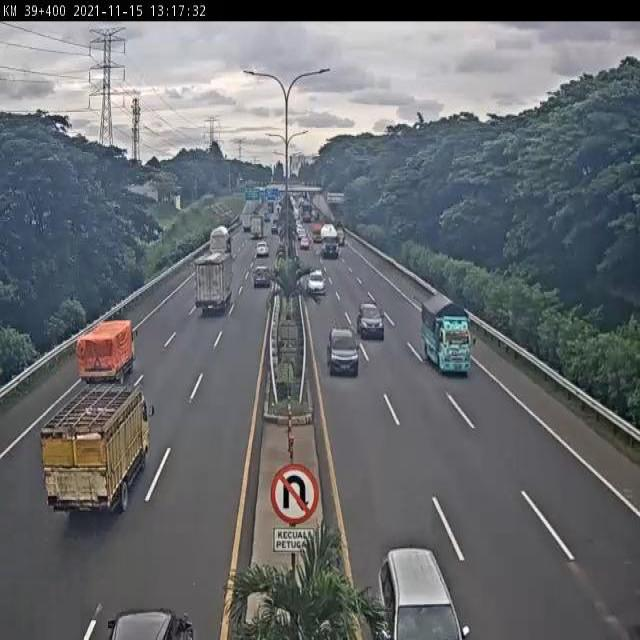car: (327, 328, 360, 377), (359, 301, 383, 339), (252, 264, 272, 288), (307, 269, 324, 295)
truck-l-: (319, 223, 340, 260)
truck-m-: (42, 384, 151, 513), (423, 295, 471, 377), (79, 321, 137, 384), (197, 254, 233, 314)
